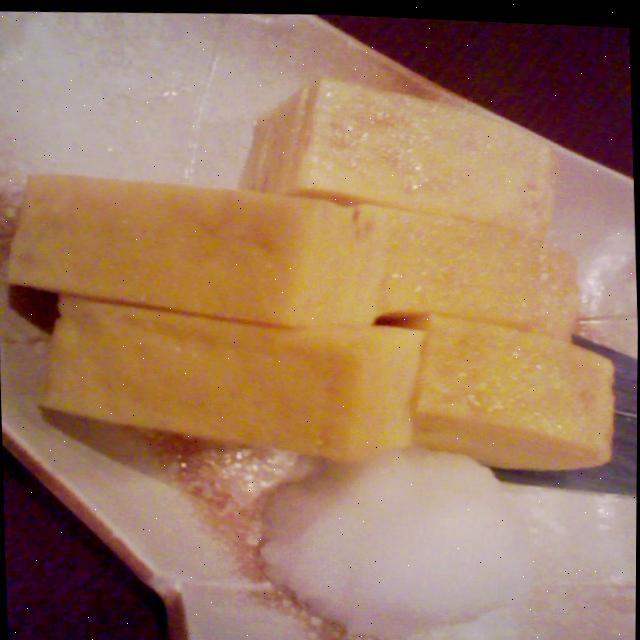鸡蛋料理: (12, 28, 637, 517)
